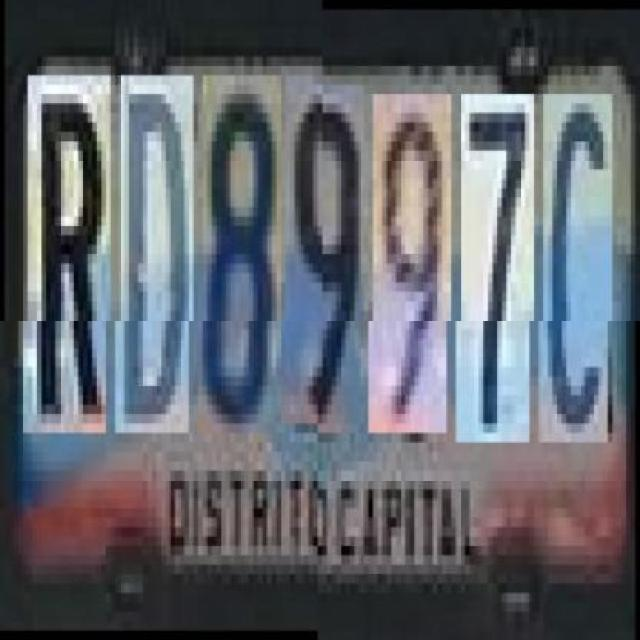7: (460, 94, 534, 441)
8: (202, 85, 282, 443)
9: (285, 85, 364, 433), (373, 95, 452, 433)
c: (543, 94, 612, 441)
d: (119, 85, 193, 443)
r: (28, 85, 110, 443)
